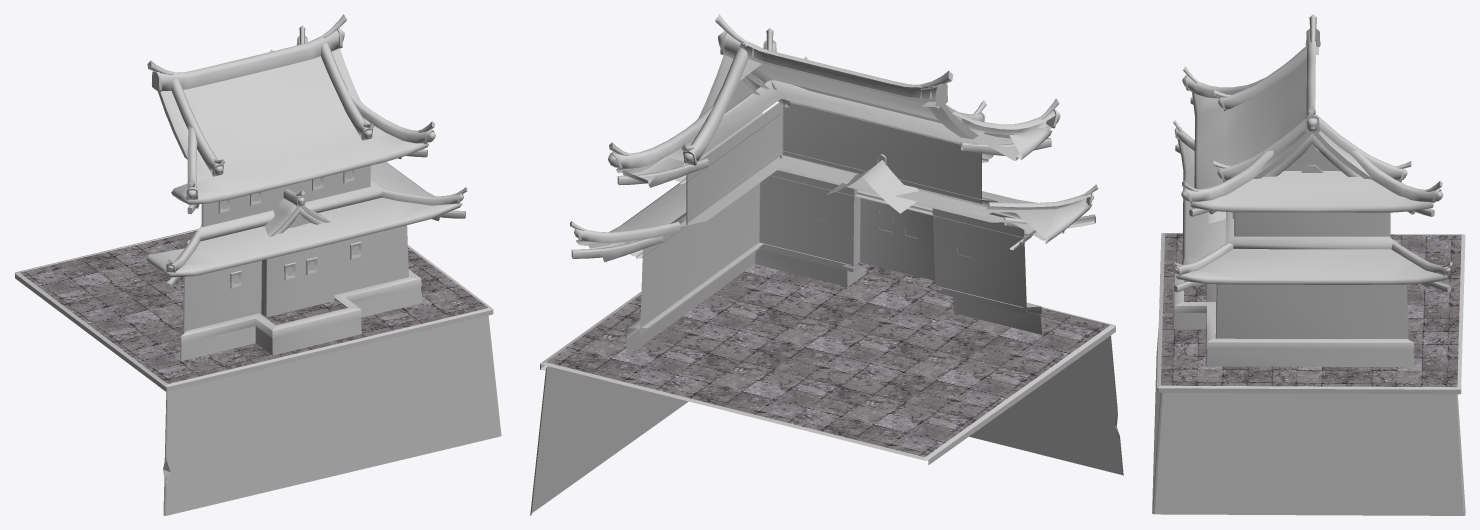
File: SM_InnerCourtHouse_A.FBX
3 views of the same model, side by side, from view 1: azimuth 30°, elevation 25°; view 2: azimuth 150°, elevation 25°; view 3: azimuth 270°, elevation 25° (orthographic). The views are drawn at different scales.
Parts seen in each view (by area): view 1: SM_InnerCourtHouse_A; view 2: SM_InnerCourtHouse_A; view 3: SM_InnerCourtHouse_A.
Boxes of the visible parts, x1,y1,x2,y2 form: SM_InnerCourtHouse_A: [14, 14, 501, 515]; SM_InnerCourtHouse_A: [530, 14, 1123, 515]; SM_InnerCourtHouse_A: [1152, 14, 1465, 515].
Size of the model in its own units: 1385 by 1136 by 1486.
